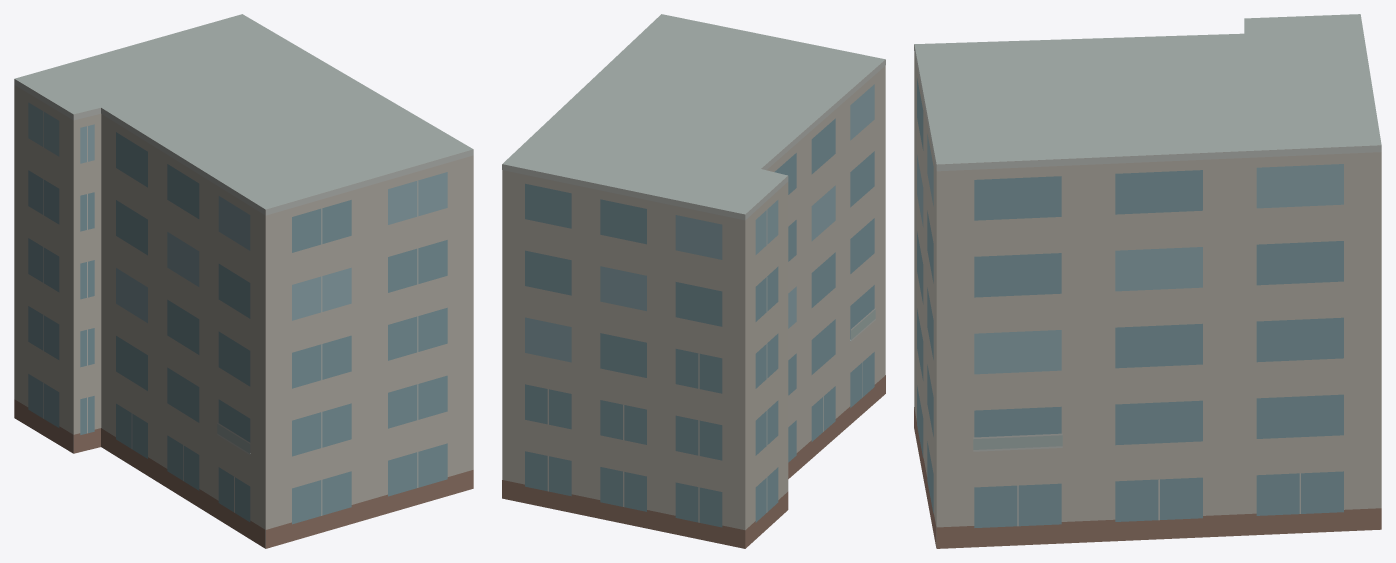
File: survey-upis-32929037.glb
The picture shows the model from 3 angles, left to right: view 1: azimuth 30°, elevation 25°; view 2: azimuth 150°, elevation 25°; view 3: azimuth 270°, elevation 25°; orthographic projection. The views are drawn at different scales.
Visible parts, largest first — view 1: survey-upis-32929037.tmp; view 2: survey-upis-32929037.tmp; view 3: survey-upis-32929037.tmp.
Boxes of the visible parts, box(x1,y1,x2,y2) form: survey-upis-32929037.tmp: box(14, 14, 473, 548); survey-upis-32929037.tmp: box(502, 14, 885, 548); survey-upis-32929037.tmp: box(914, 14, 1381, 548).
Size of the model in its own units: 11.51 by 13.7 by 15.11.
